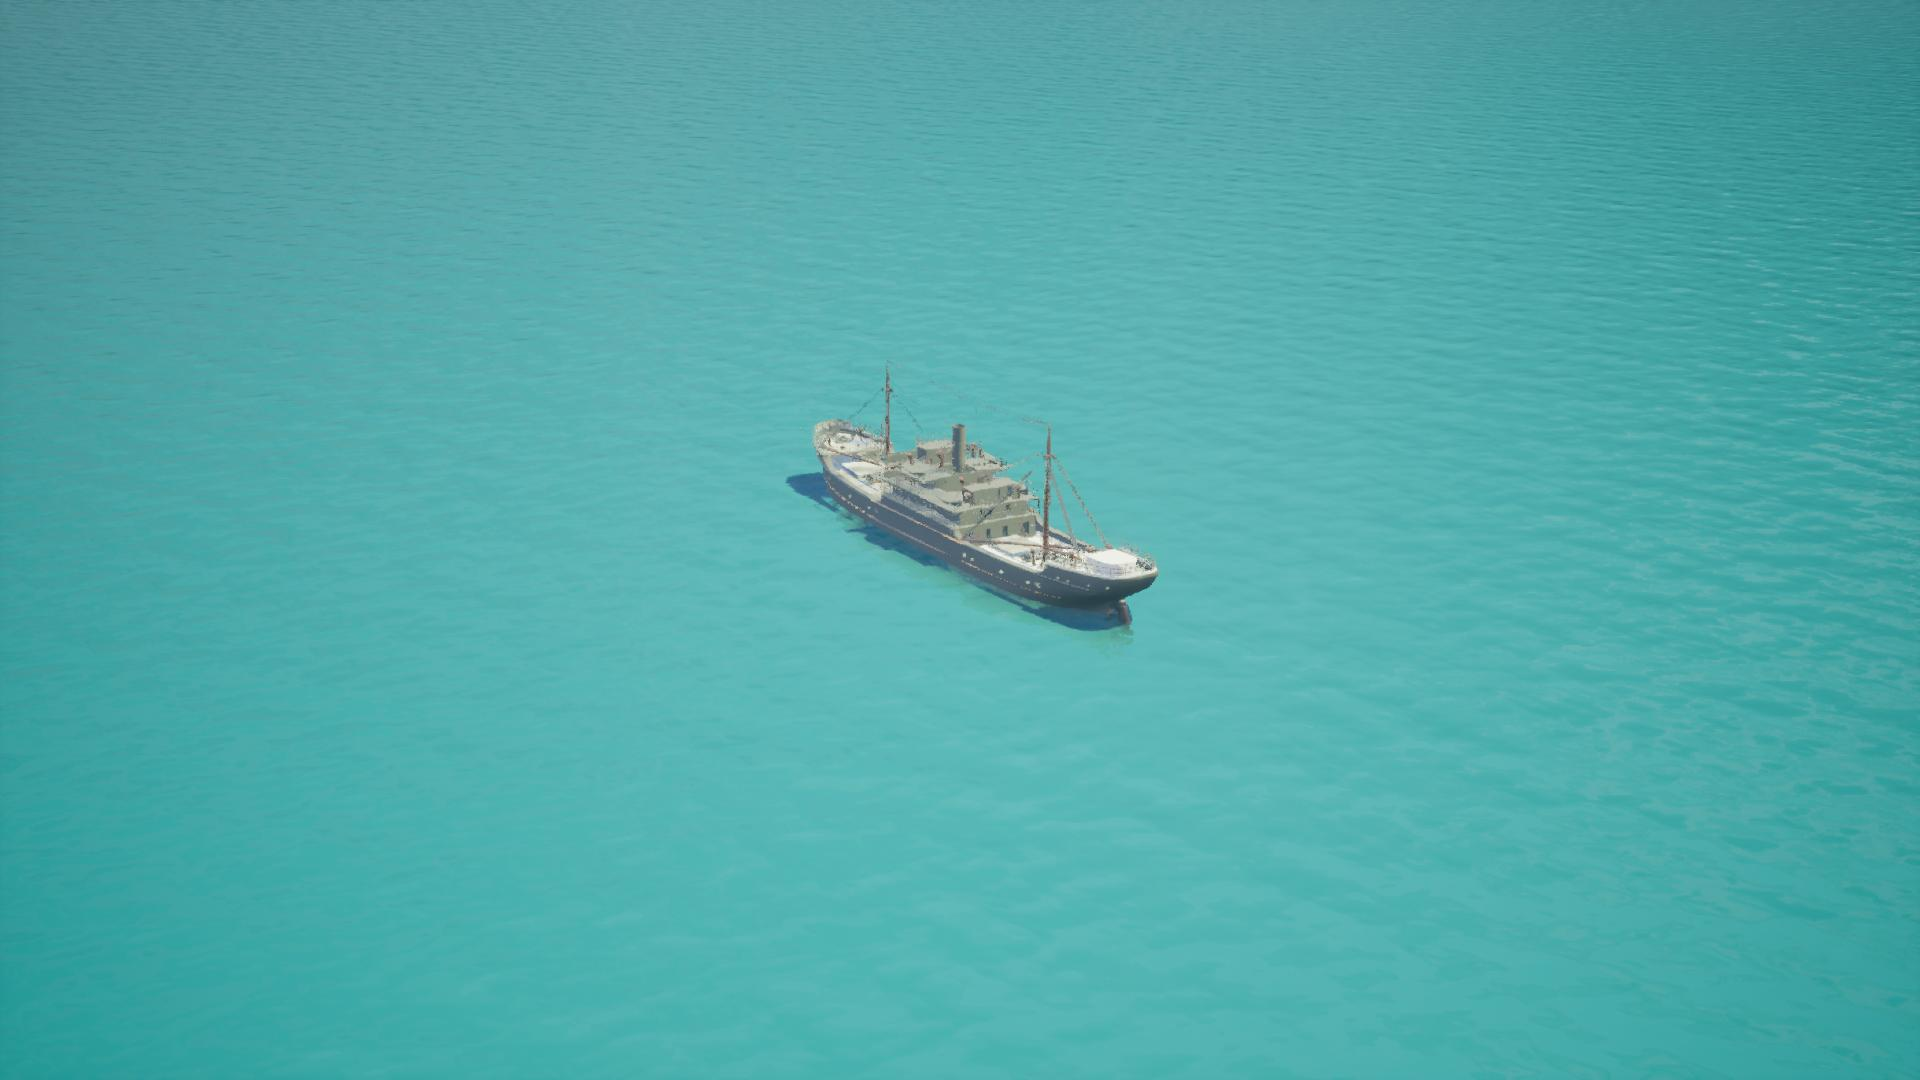Fishing Boat: (795, 371, 1156, 628)
